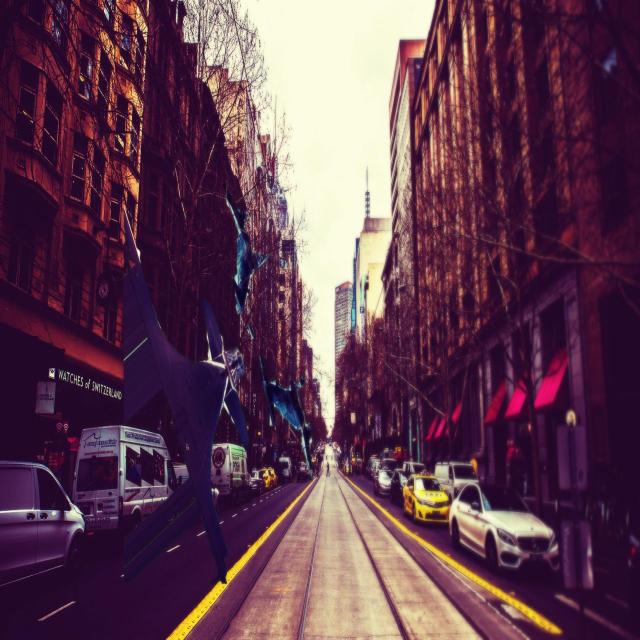airplane: (120, 202, 250, 586), (259, 352, 313, 476)
